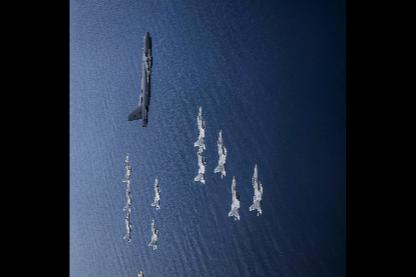B2: (127, 29, 152, 126)
C5: (133, 269, 145, 276)
F15: (249, 162, 262, 214), (214, 128, 226, 177), (194, 104, 205, 150), (228, 174, 239, 219), (194, 144, 205, 185), (151, 174, 160, 209), (148, 215, 157, 248), (122, 152, 130, 185), (124, 182, 132, 212), (124, 209, 131, 240)
